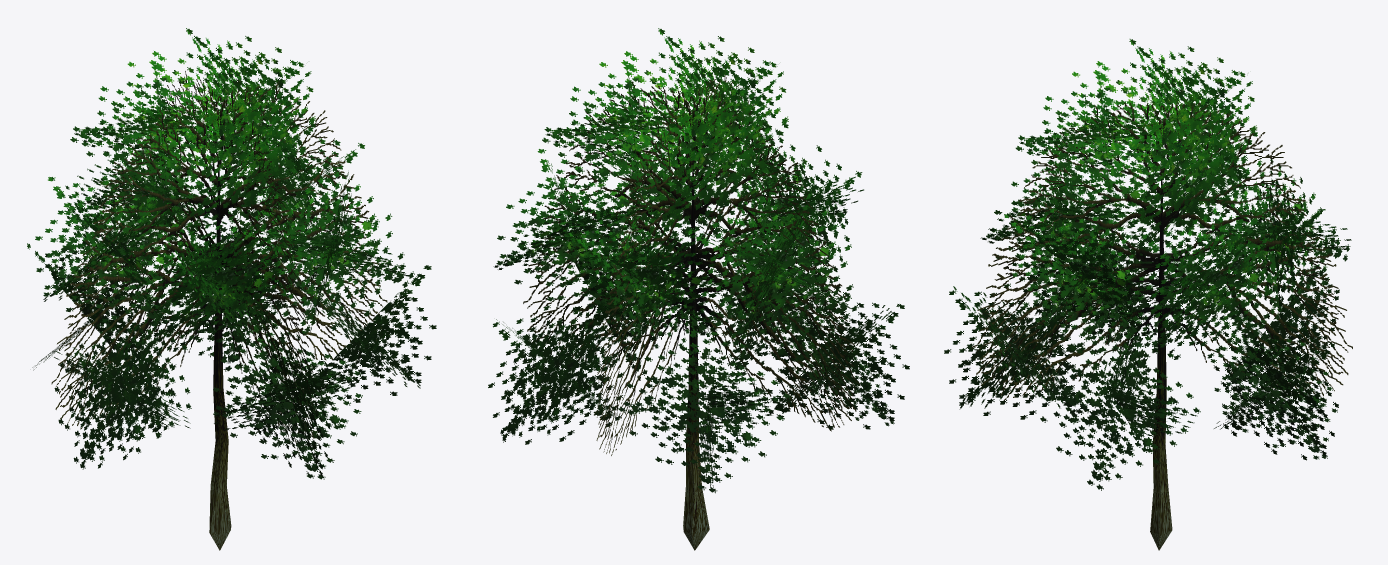
File: zomereik_1.fbx
3 renders of one model, left to right at view 1: azimuth 30°, elevation 25°; view 2: azimuth 150°, elevation 25°; view 3: azimuth 270°, elevation 25°, orthographic. The views are drawn at different scales.
Parts seen in each view (by area): view 1: zomereik_1; view 2: zomereik_1; view 3: zomereik_1.
Part boxes in pixels (box(x1,y1,x2,y2)): zomereik_1: box(27, 28, 436, 550); zomereik_1: box(488, 28, 909, 550); zomereik_1: box(944, 39, 1352, 550).
Bounding box in the file's own units: 465 × 581 × 468.
